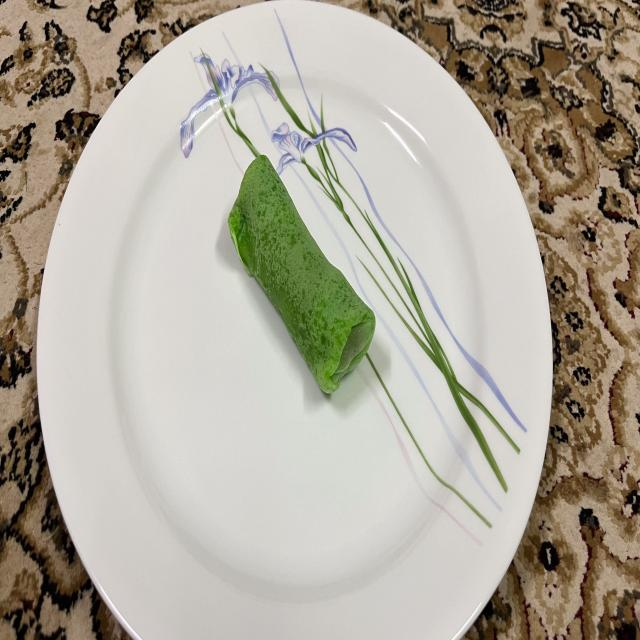Kuih-Ketayap: (229, 156, 375, 393)
